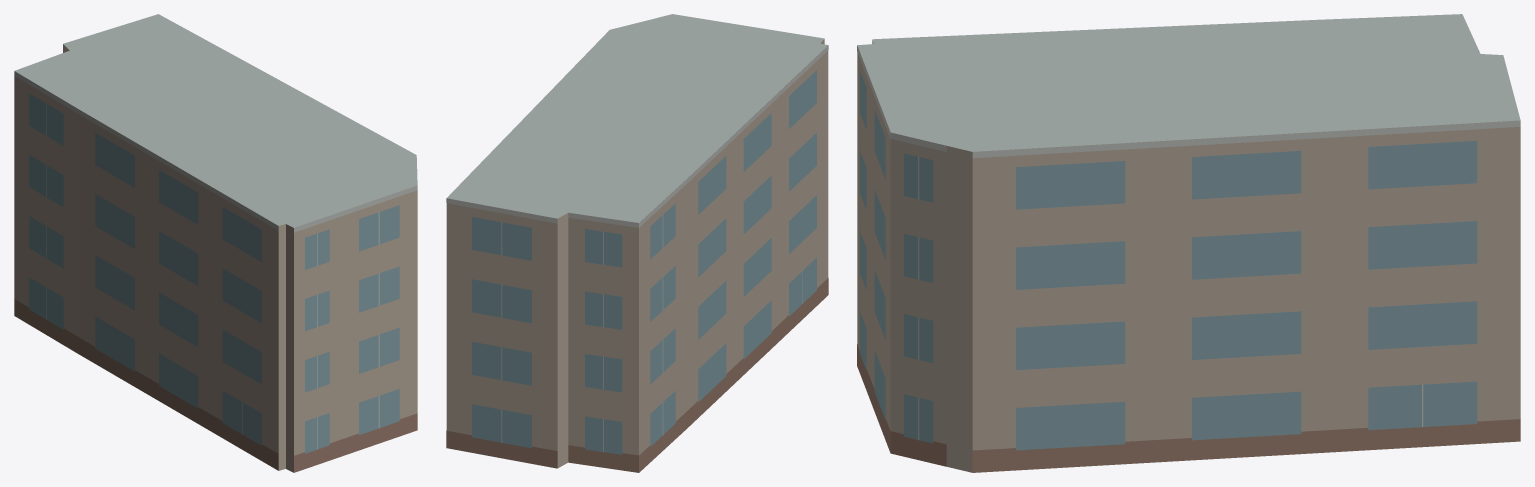
Rendered from survey-upis-32741761.glb.
3 views of the same model, side by side, from view 1: azimuth 30°, elevation 25°; view 2: azimuth 150°, elevation 25°; view 3: azimuth 270°, elevation 25° (orthographic). The views are drawn at different scales.
Visible parts, largest first — view 1: survey-upis-32741761.tmp; view 2: survey-upis-32741761.tmp; view 3: survey-upis-32741761.tmp.
Boxes of the visible parts, x1=… form: survey-upis-32741761.tmp: x1=14, y1=14, x2=417, y2=472; survey-upis-32741761.tmp: x1=446, y1=14, x2=828, y2=472; survey-upis-32741761.tmp: x1=857, y1=14, x2=1520, y2=472.
Size of the model in its own units: 11.43 by 12.4 by 23.24.
